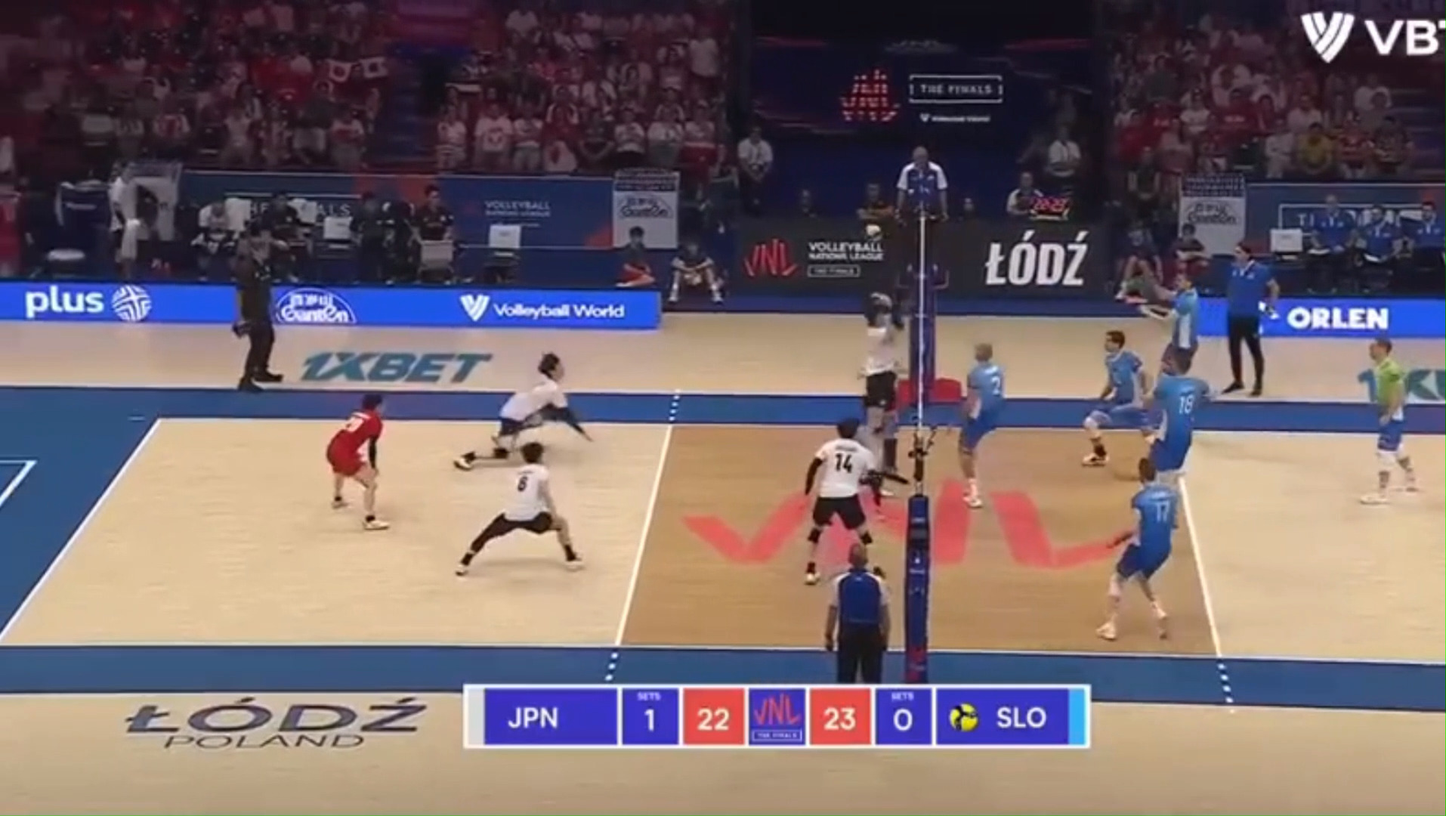ball: (864, 223, 882, 240)
player: (1096, 454, 1180, 640), (1081, 330, 1148, 466), (1361, 337, 1415, 504), (1151, 346, 1210, 475), (959, 343, 1005, 508), (1151, 273, 1198, 357)
player 1: (457, 443, 580, 575), (805, 419, 877, 585), (490, 353, 589, 459), (326, 393, 387, 529), (861, 292, 903, 474)
referee: (824, 542, 891, 683), (889, 145, 948, 302), (233, 224, 283, 391), (1224, 243, 1278, 396)
